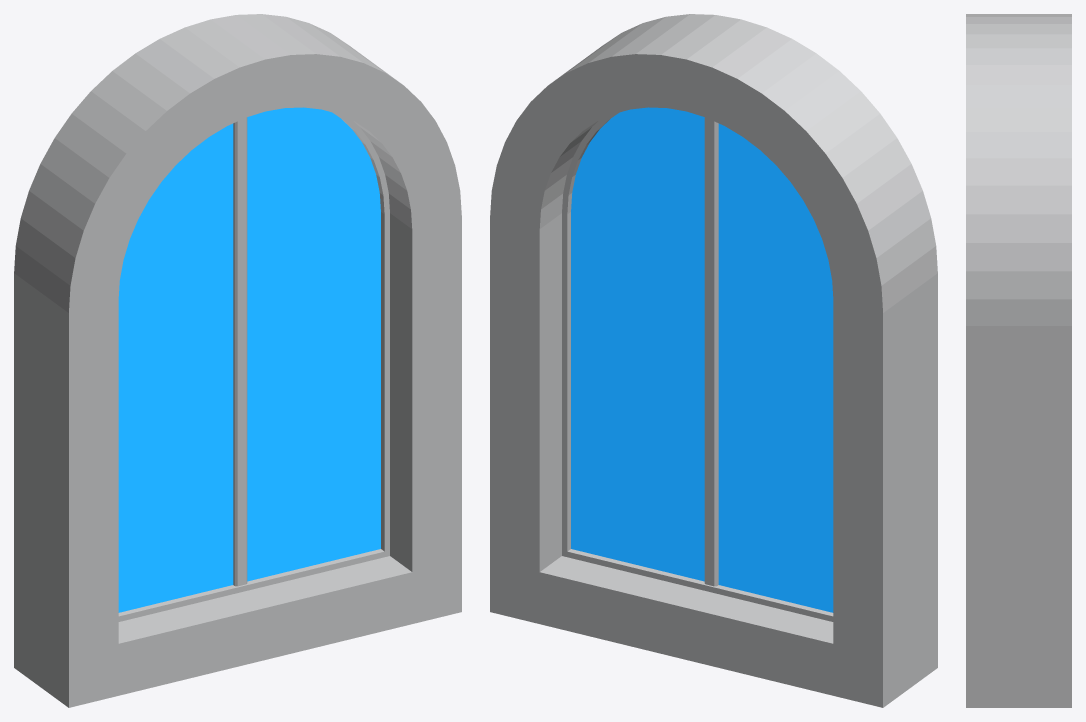
The model's file is janela_arco_folhas_branca.glb.
3 renders of one model, left to right at view 1: azimuth 30°, elevation 25°; view 2: azimuth 150°, elevation 25°; view 3: azimuth 270°, elevation 25°, orthographic. The views are drawn at different scales.
Parts seen in each view (by area): view 1: janela_arco_folhas_branca; view 2: janela_arco_folhas_branca; view 3: janela_arco_folhas_branca.
Part boxes in pixels (bbox=[...]): janela_arco_folhas_branca: bbox=[14, 14, 461, 707]; janela_arco_folhas_branca: bbox=[490, 14, 937, 707]; janela_arco_folhas_branca: bbox=[966, 14, 1071, 707].
Bounding box in the file's own units: 0.87 × 1.27 × 0.21.
